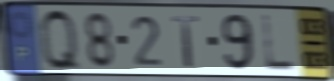2: (129, 13, 165, 68)
8: (82, 10, 116, 70)
9: (220, 12, 256, 73)
L: (260, 12, 299, 73)
Q: (37, 6, 84, 74)
T: (169, 14, 203, 69)
